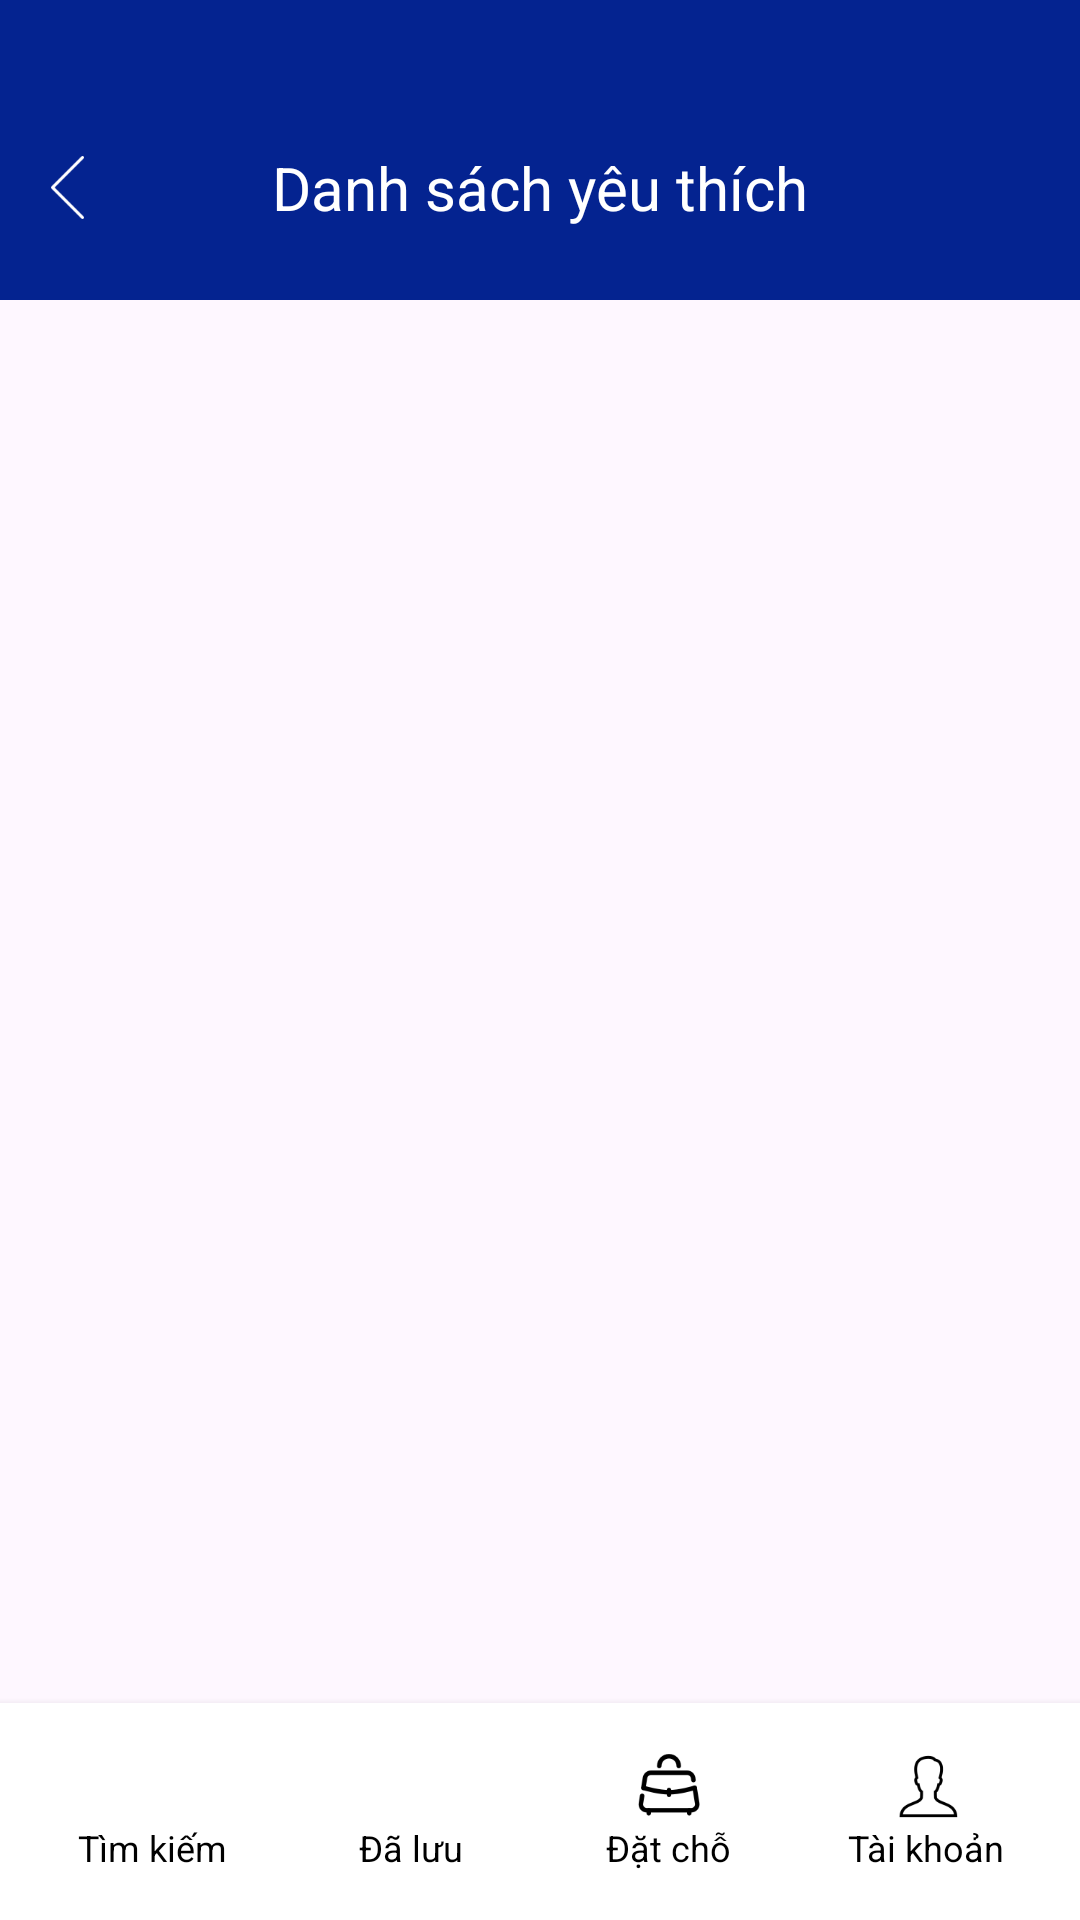

Icon bounding boxes for this 1080px×1920px phone screenshot, format (x1, y1, x2, y2):
back: (51, 156, 84, 219)
bag: (638, 1754, 700, 1816)
user: (899, 1755, 958, 1818)
